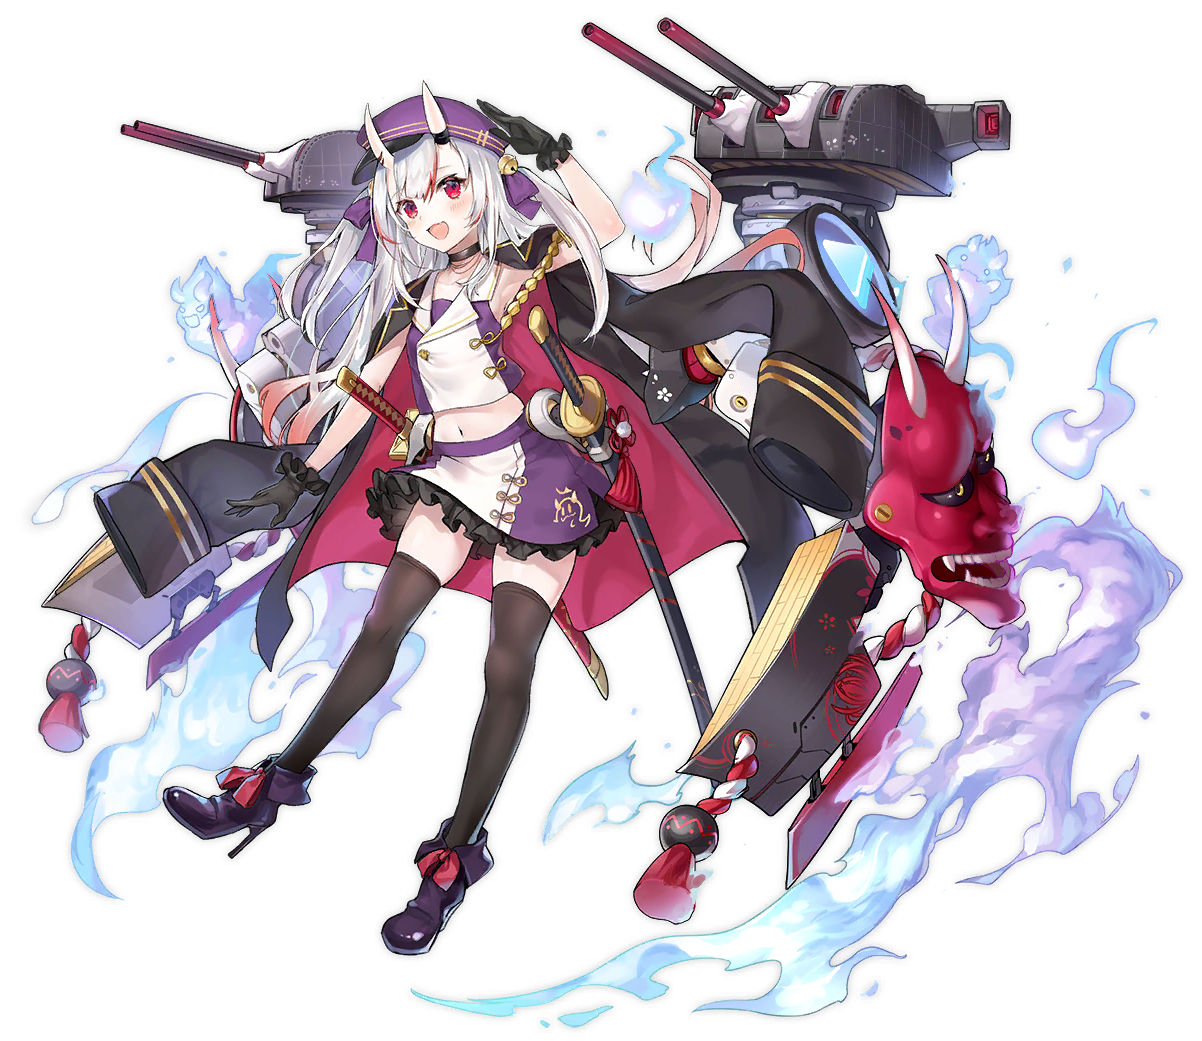person: (228, 107, 674, 733)
